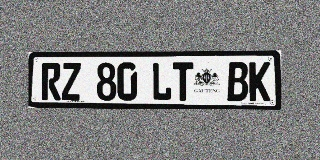0: (117, 62, 137, 101)
8: (97, 62, 116, 101)
B: (227, 62, 248, 101)
K: (249, 62, 270, 101)
L: (152, 62, 172, 101)
R: (42, 63, 61, 100)
T: (173, 62, 193, 101)
Z: (61, 63, 81, 100)
